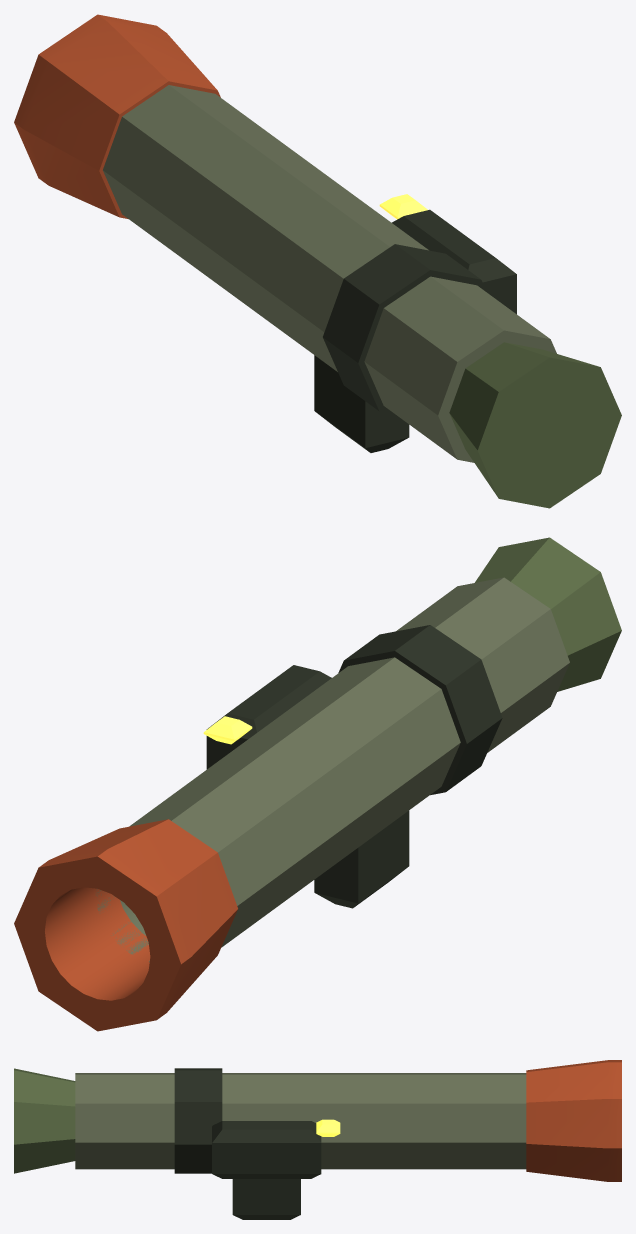
File: w_b_raid_bazooka.glb
3 views of the same model, one above another, from view 1: azimuth 30°, elevation 25°; view 2: azimuth 150°, elevation 25°; view 3: azimuth 270°, elevation 25° (orthographic). The views are drawn at different scales.
Parts seen in each view (by area): view 1: weapon_team_color, weapon_body, weapon; view 2: weapon_body, weapon_team_color, weapon; view 3: weapon_team_color, weapon_body, weapon.
Part boxes in pixels (<box>): weapon_team_color: <box>103,85,556,462</box>; weapon_body: <box>14,14,621,508</box>; weapon: <box>379,194,427,219</box>; weapon_body: <box>14,537,621,1031</box>; weapon_team_color: <box>96,577,569,962</box>; weapon: <box>203,716,252,744</box>; weapon_team_color: <box>75,1073,526,1169</box>; weapon_body: <box>14,1060,621,1219</box>; weapon: <box>316,1119,340,1136</box>.
Bounding box in the file's own units: 1.35 × 1.5 × 5.34.
